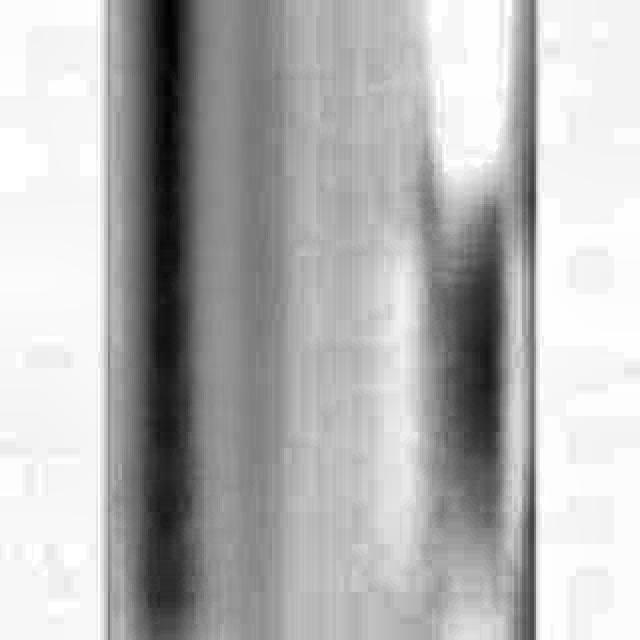metal: (96, 0, 566, 640)
